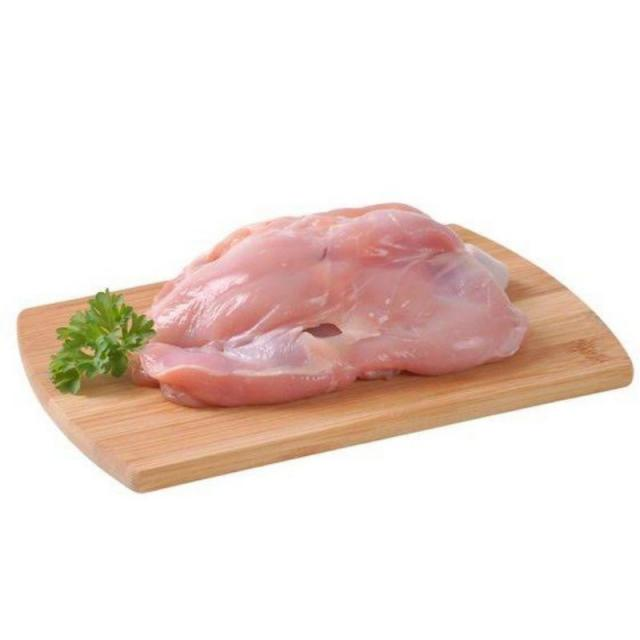chicken: (133, 204, 518, 395)
